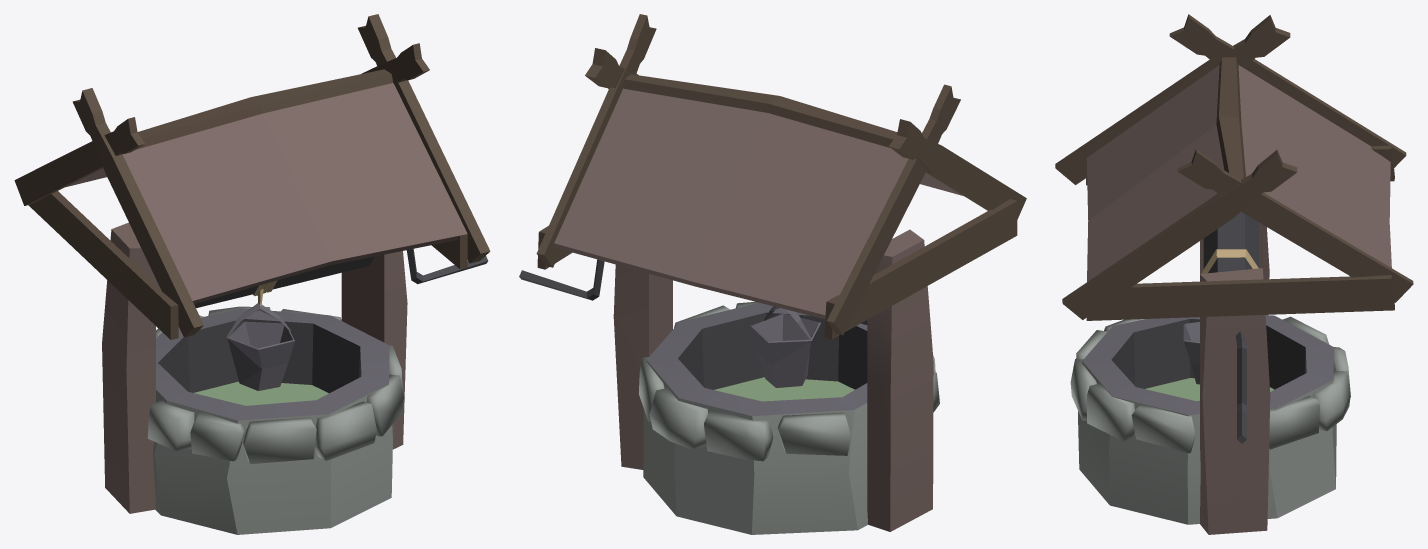
File: well.glb
The picture shows the model from 3 angles, left to right: view 1: azimuth 30°, elevation 25°; view 2: azimuth 150°, elevation 25°; view 3: azimuth 270°, elevation 25°; orthographic projection. The views are drawn at different scales.
Parts seen in each view (by area): view 1: well; view 2: well; view 3: well.
Part boxes in pixels (x1=…): well: x1=14, y1=14, x2=490, y2=534; well: x1=519, y1=14, x2=1026, y2=534; well: x1=1055, y1=14, x2=1413, y2=534.
Bounding box in the file's own units: 2.13 × 2.07 × 1.74.
Materials: 1 (1 with a texture image).
